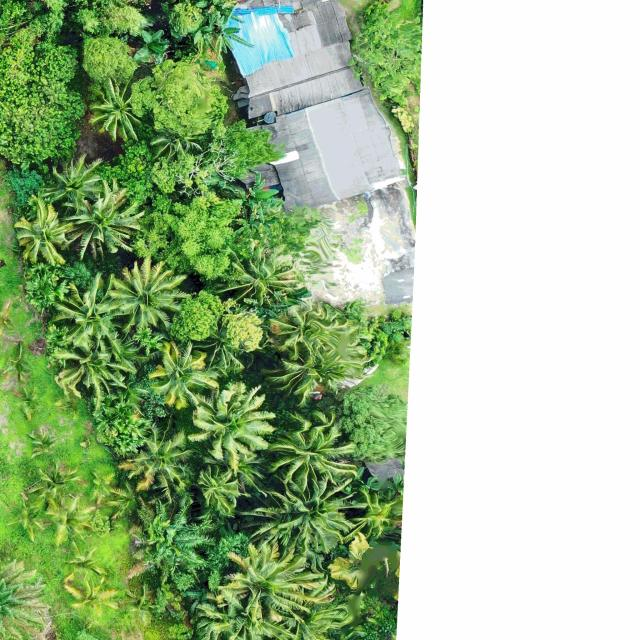Tree: (0, 40, 88, 173), (221, 534, 321, 626), (125, 492, 217, 589), (128, 56, 230, 140), (349, 0, 422, 106), (61, 185, 142, 262), (119, 424, 198, 501), (108, 258, 188, 334), (52, 273, 122, 355), (148, 342, 216, 410), (86, 75, 150, 142), (14, 198, 75, 266), (38, 492, 100, 548), (48, 152, 104, 208), (80, 32, 138, 82), (64, 571, 118, 623), (192, 321, 247, 372), (30, 460, 83, 512), (171, 288, 222, 342), (197, 464, 242, 516), (245, 172, 283, 225), (211, 19, 254, 55), (167, 0, 205, 40), (134, 30, 170, 64), (192, 19, 218, 59)
